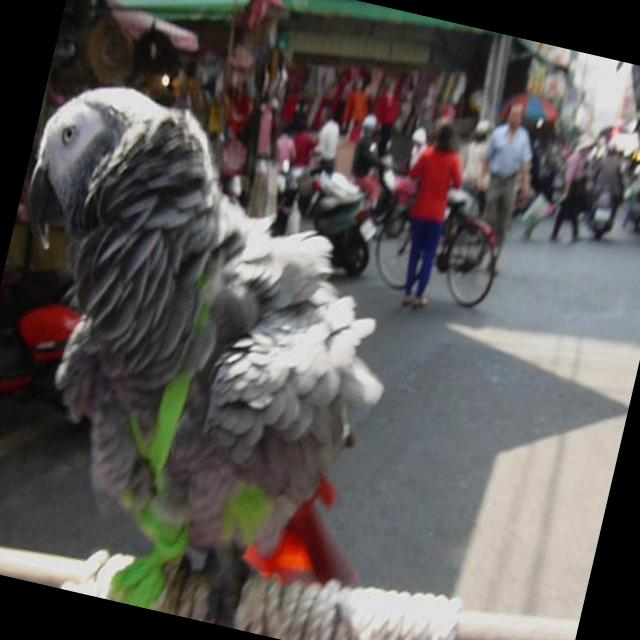Vehicle: (257, 150, 391, 281), (578, 182, 622, 245), (628, 163, 640, 251)
